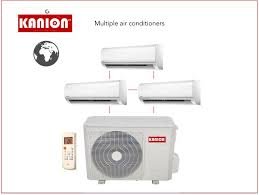ac: (60, 79, 130, 108), (99, 45, 168, 72), (135, 79, 201, 107)
